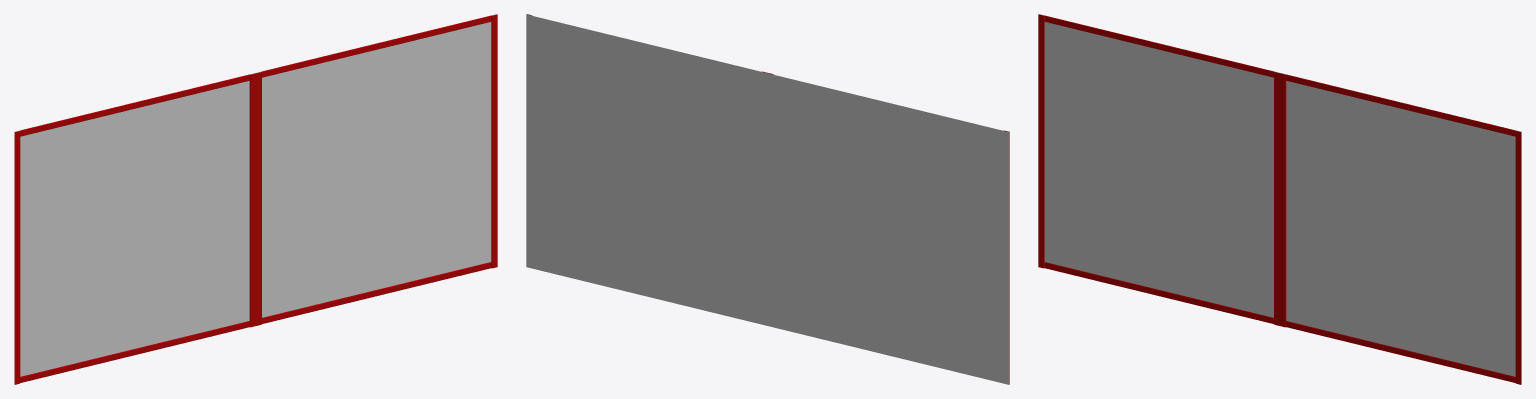
The model's file is Wall02bTop.fbx.
The picture shows the model from 3 angles, left to right: view 1: azimuth 30°, elevation 25°; view 2: azimuth 150°, elevation 25°; view 3: azimuth 330°, elevation 25°; orthographic projection.
Parts seen in each view (by area): view 1: Wall02bTop; view 2: Wall02bTop; view 3: Wall02bTop.
Boxes of the visible parts, left/top/right/bottom form: Wall02bTop: left=14, top=14, right=497, bottom=384; Wall02bTop: left=526, top=14, right=1009, bottom=384; Wall02bTop: left=1038, top=14, right=1521, bottom=384.
Bounding box in the file's own units: 200 × 100 × 0.348.
